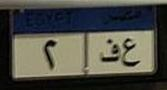2: (42, 38, 58, 70)
ain: (121, 37, 141, 69)
faa: (98, 37, 120, 65)
